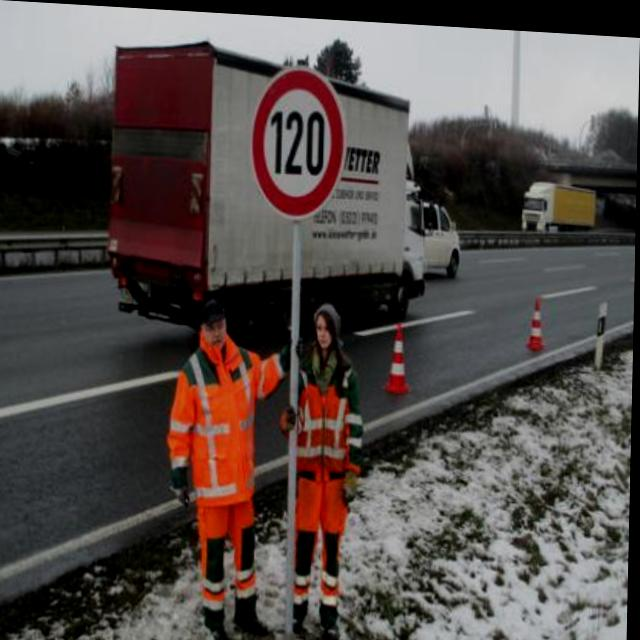limit120: (236, 53, 353, 225)
